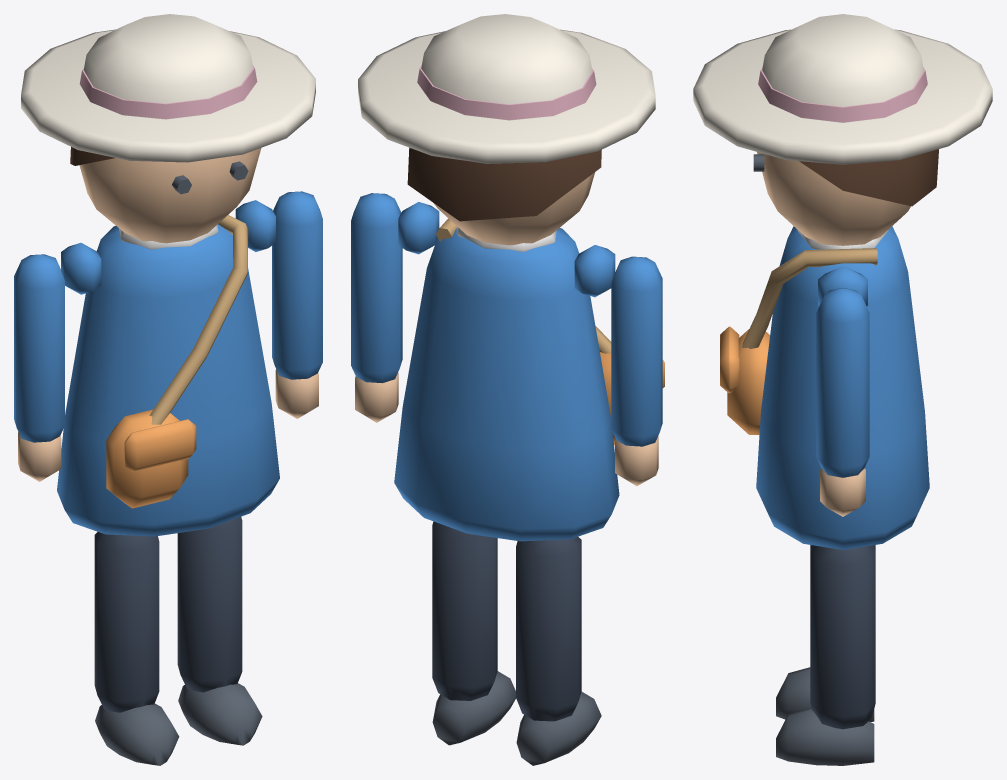
Rendered from walker_b.glb.
3 views of the same model, side by side, from view 1: azimuth 30°, elevation 25°; view 2: azimuth 150°, elevation 25°; view 3: azimuth 270°, elevation 25° (orthographic).
Parts seen in each view (by area): view 1: walker_b_structure, leg_left, leg_right, arm_left, arm_right; view 2: walker_b_structure, leg_left, leg_right, arm_left, arm_right; view 3: walker_b_structure, leg_right, arm_right, leg_left.
Part boxes in pixels (x1,y1,x2,y2): walker_b_structure: (21,14,315,536); leg_left: (94,532,179,765); leg_right: (177,517,262,745); arm_left: (14,254,64,481); arm_right: (272,191,322,418); walker_b_structure: (358,14,664,541); leg_left: (516,537,601,765); leg_right: (432,521,515,745); arm_left: (611,256,662,486); arm_right: (351,193,402,422); walker_b_structure: (693,14,992,549); leg_right: (776,546,875,765); arm_right: (816,288,869,516); leg_left: (776,545,875,721).
Bounding box in the file's own units: 0.73 × 1.62 × 0.62.
